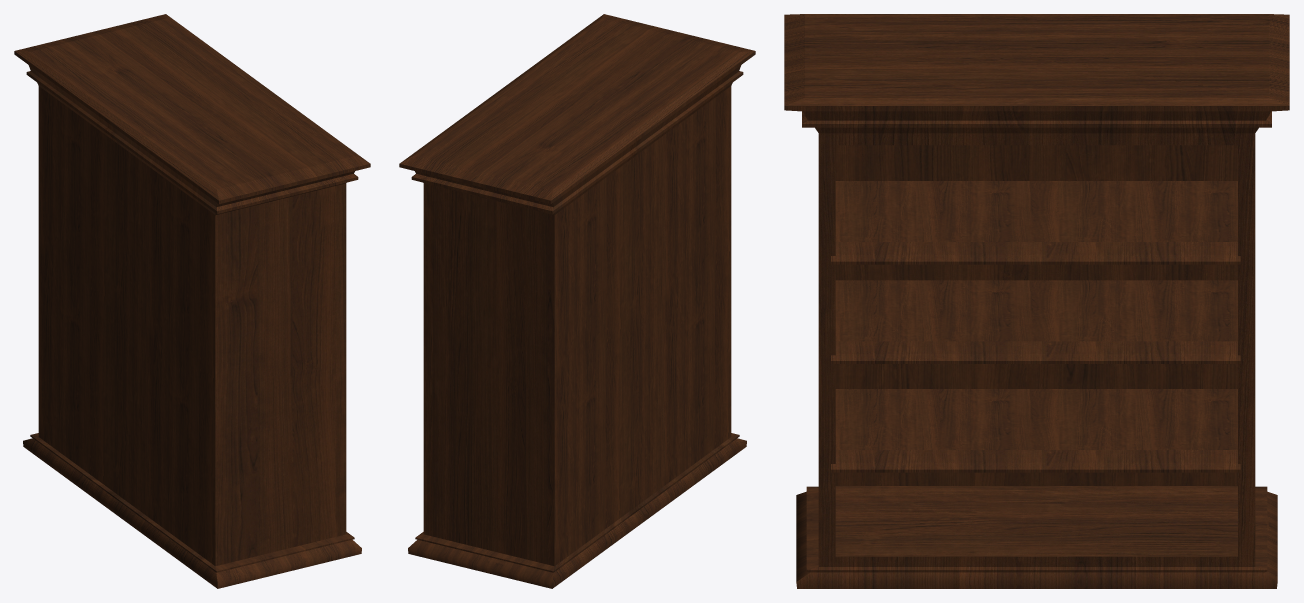
Rendered from book.gltf.
The picture shows the model from 3 angles, left to right: view 1: azimuth 30°, elevation 25°; view 2: azimuth 150°, elevation 25°; view 3: azimuth 270°, elevation 25°; orthographic projection. The views are drawn at different scales.
Parts seen in each view (by area): view 1: Box001_Material #25_0; view 2: Box001_Material #25_0; view 3: Box001_Material #25_0.
Boxes of the visible parts, x1,y1,x2,y2 form: Box001_Material #25_0: [14, 14, 370, 588]; Box001_Material #25_0: [399, 14, 755, 588]; Box001_Material #25_0: [784, 14, 1289, 588].
Bounding box in the file's own units: 44.44 × 111 × 104.
Materials: 1 (1 with a texture image).
